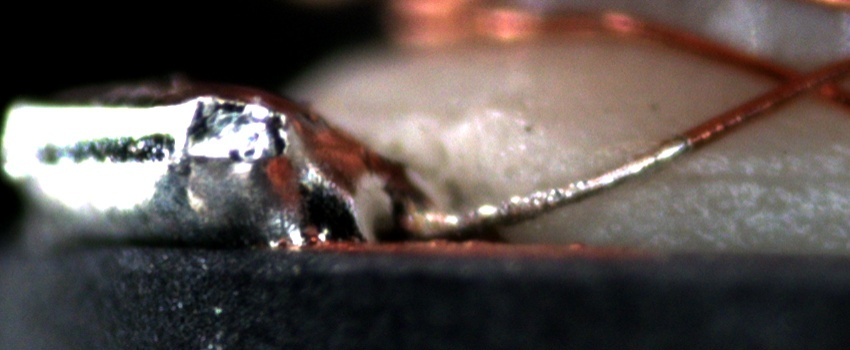CL: (758, 55, 839, 110)
DL: (645, 148, 850, 209)
TS: (418, 136, 690, 235)
